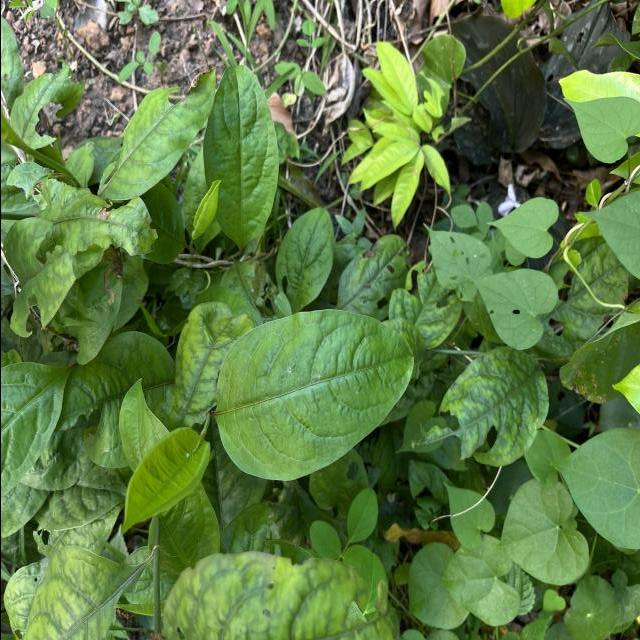Plumbago indica: (210, 306, 418, 486), (198, 54, 284, 254), (112, 421, 216, 538), (276, 206, 338, 310)
